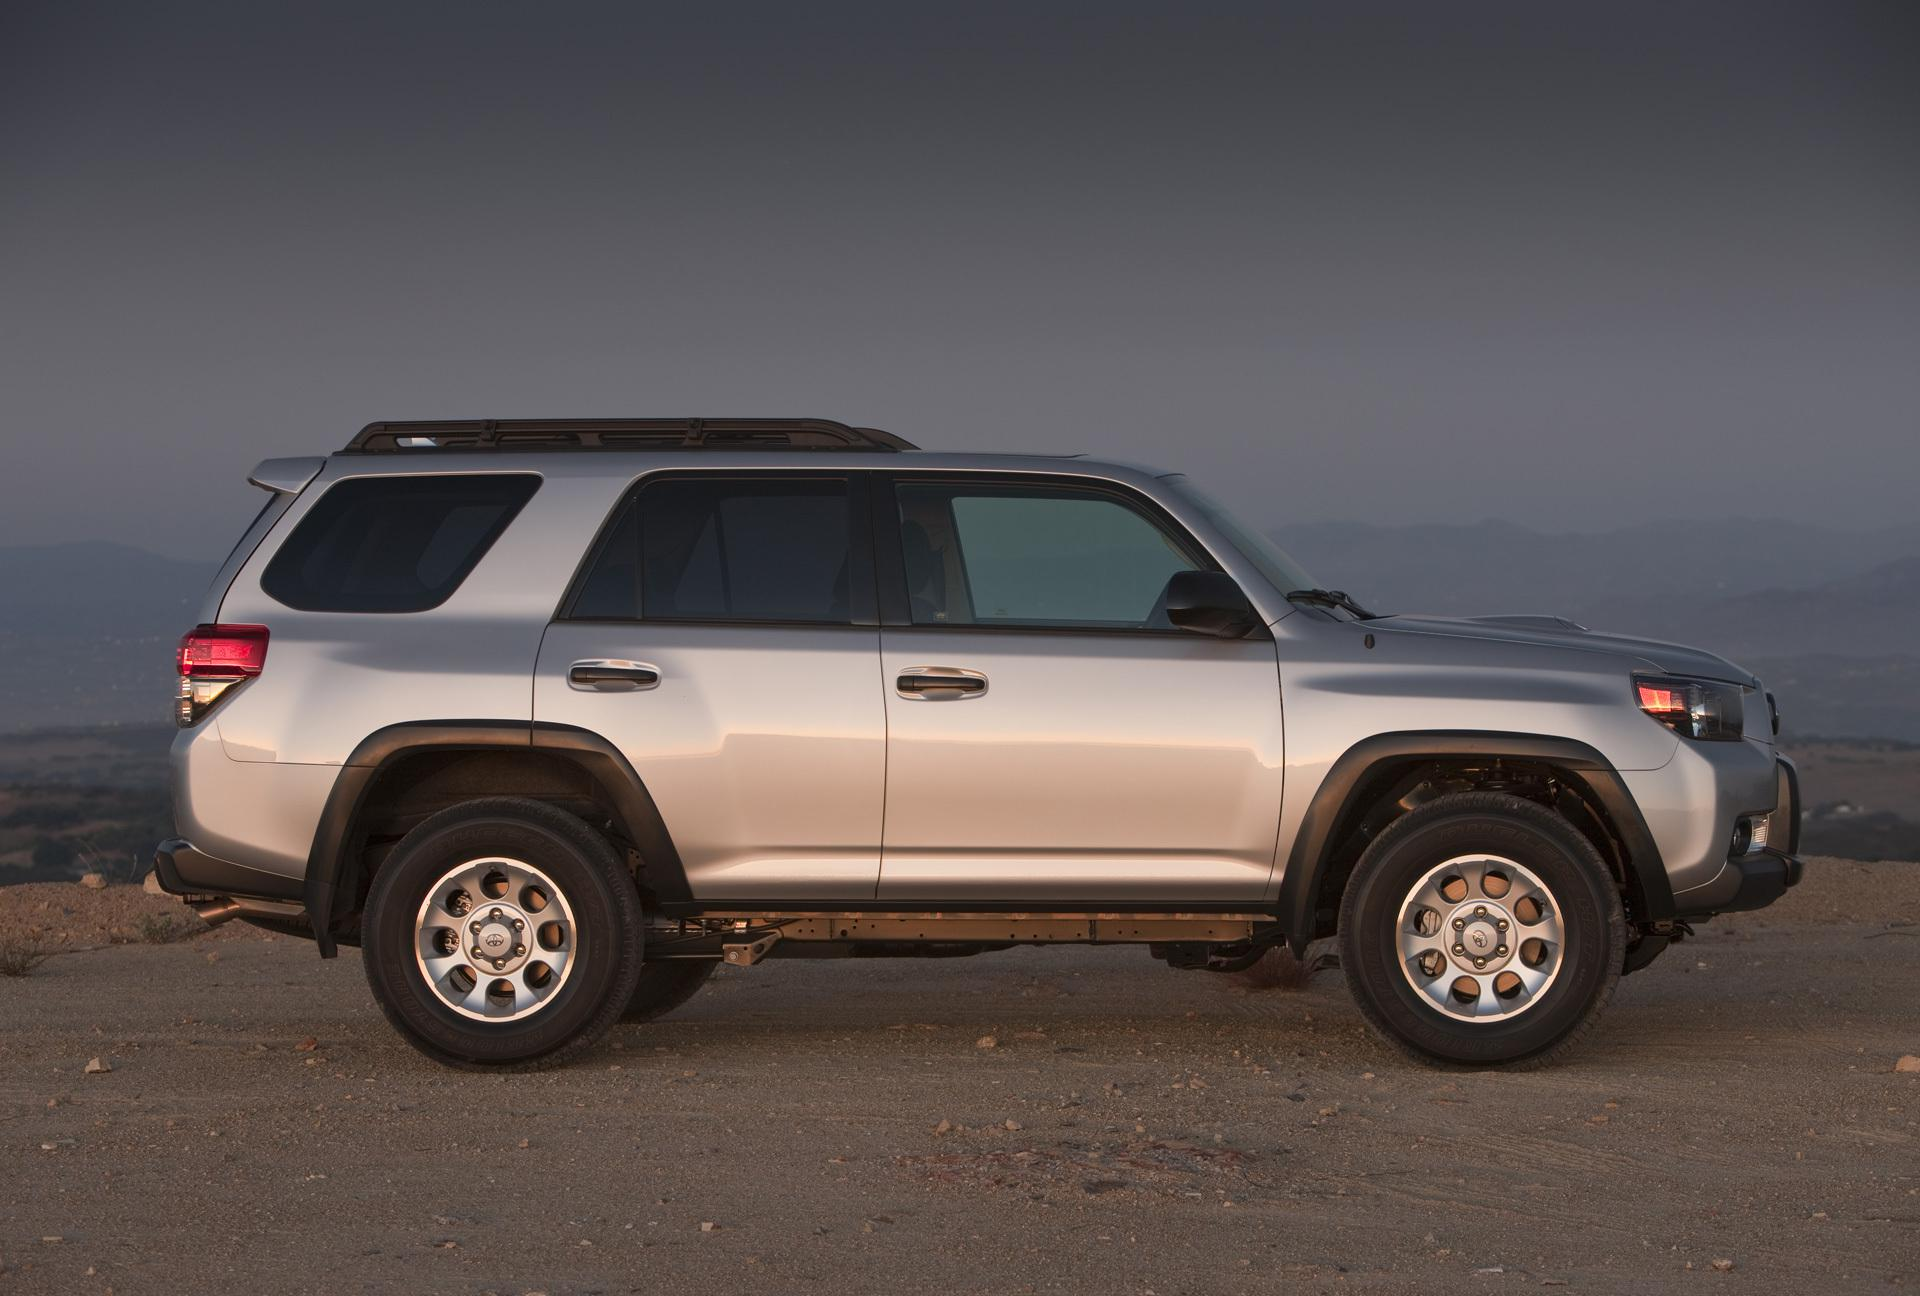Car: (119, 364, 1908, 1148)
